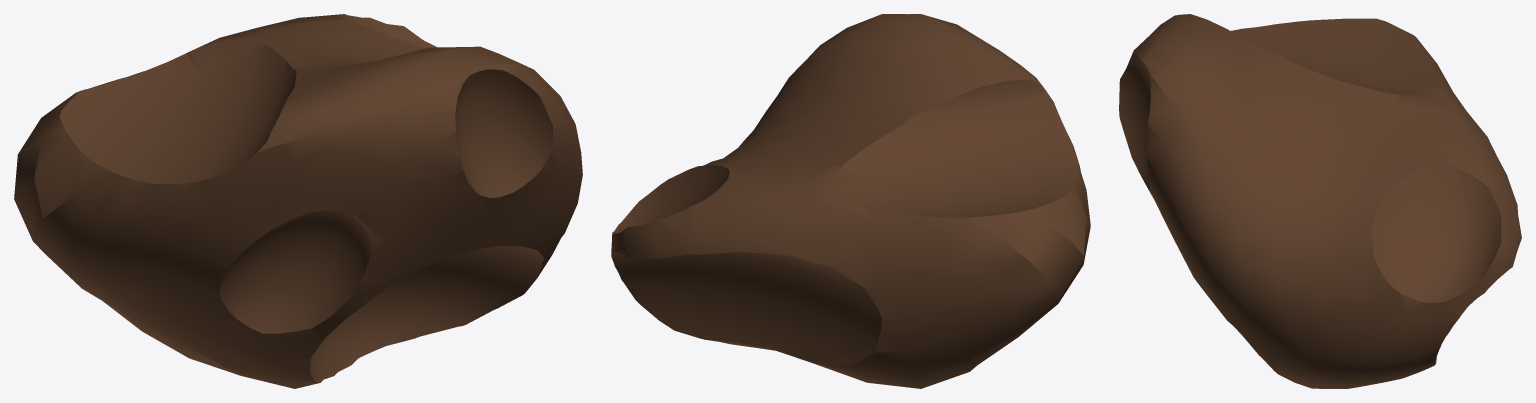
Rendered from Assteroid 4.fbx.
3 views of the same model, side by side, from view 1: azimuth 30°, elevation 25°; view 2: azimuth 150°, elevation 25°; view 3: azimuth 270°, elevation 25° (orthographic). The views are drawn at different scales.
Parts seen in each view (by area): view 1: rock.004; view 2: rock.004; view 3: rock.004.
Boxes of the visible parts, x1,y1,x2,y2 form: rock.004: [14, 14, 582, 388]; rock.004: [611, 14, 1090, 388]; rock.004: [1119, 14, 1521, 388].
Size of the model in its own units: 125 by 83.65 by 100.
